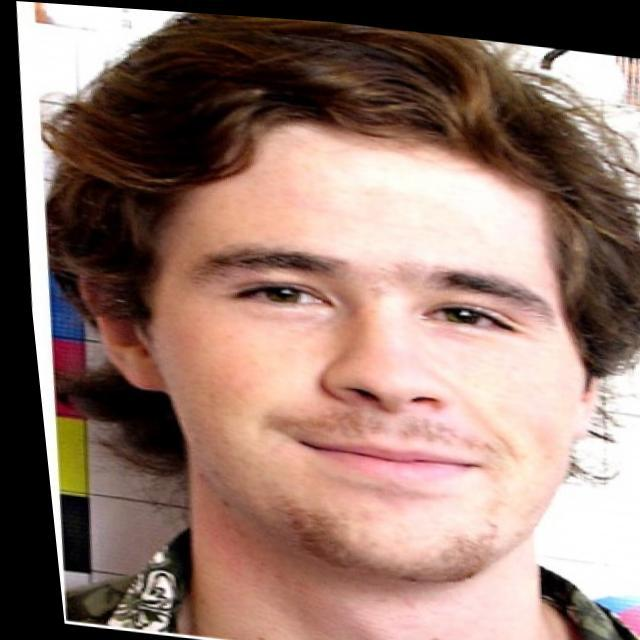Nonhelmet: (57, 2, 603, 580)
